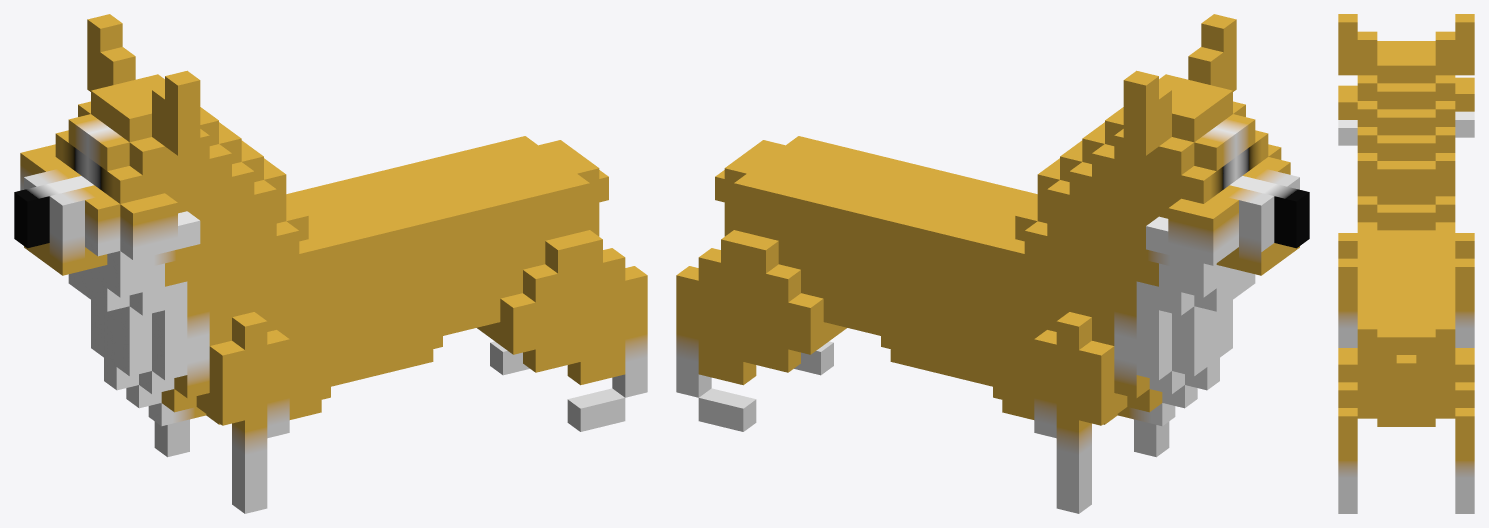
Rendered from Corgi.dae.
3 views of the same model, side by side, from view 1: azimuth 30°, elevation 25°; view 2: azimuth 150°, elevation 25°; view 3: azimuth 270°, elevation 25° (orthographic). The views are drawn at different scales.
Visible parts, largest first — view 1: Dog-Matrix; view 2: Dog-Matrix; view 3: Dog-Matrix.
Part boxes in pixels (x1=…): Dog-Matrix: x1=14, y1=14, x2=647, y2=513; Dog-Matrix: x1=676, y1=14, x2=1309, y2=513; Dog-Matrix: x1=1338, y1=14, x2=1474, y2=513.
Bounding box in the file's own units: 26 × 19 × 7.
1 material, 1 textured.
